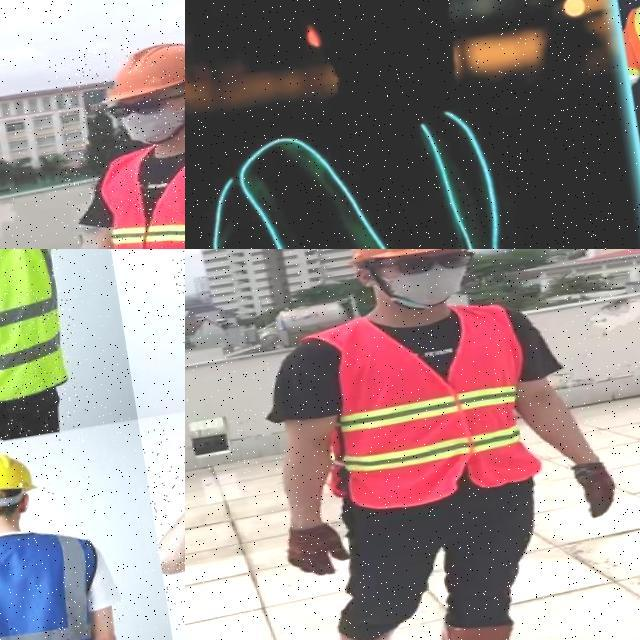boots: (426, 609, 560, 640)
helmet: (88, 31, 185, 106), (333, 249, 487, 272), (0, 448, 46, 504)
vest: (304, 296, 544, 512), (0, 249, 80, 426), (0, 524, 113, 640), (89, 127, 185, 249)
